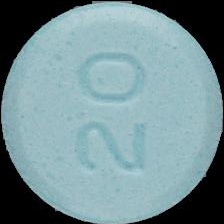55154-5073: (0, 0, 224, 224)
